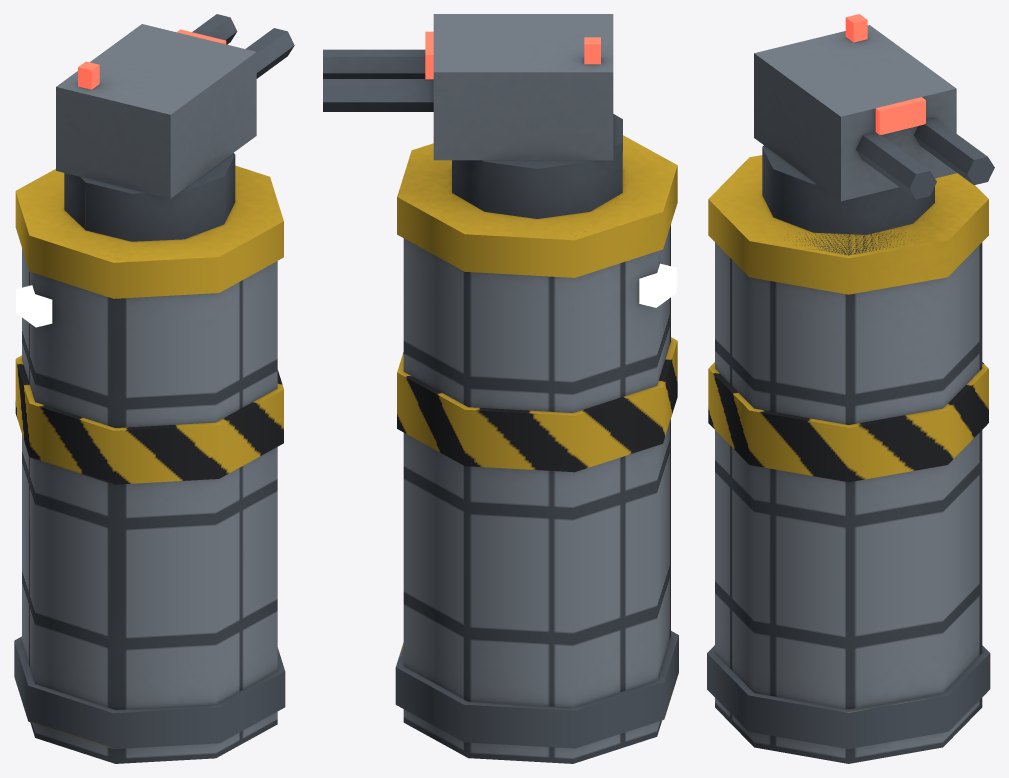
The model's file is fort_l7_post.glb.
3 renders of one model, left to right at view 1: azimuth 30°, elevation 25°; view 2: azimuth 150°, elevation 25°; view 3: azimuth 270°, elevation 25°, orthographic. The views are drawn at different scales.
Parts seen in each view (by area): view 1: fort_l7_post; view 2: fort_l7_post; view 3: fort_l7_post.
Part boxes in pixels (x1,y1,x2,y2): fort_l7_post: (14,14,294,763); fort_l7_post: (323,14,678,763); fort_l7_post: (707,14,994,763).
Size of the model in its own units: 0.2607 by 0.546 by 0.2155.
4 materials, 1 textured.
